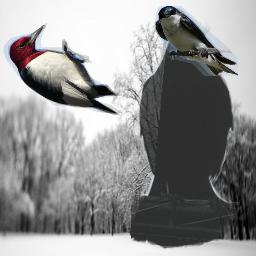Crow: (131, 30, 238, 250)
Swallow: (155, 6, 238, 76)
Woodpecker: (3, 23, 125, 115)
